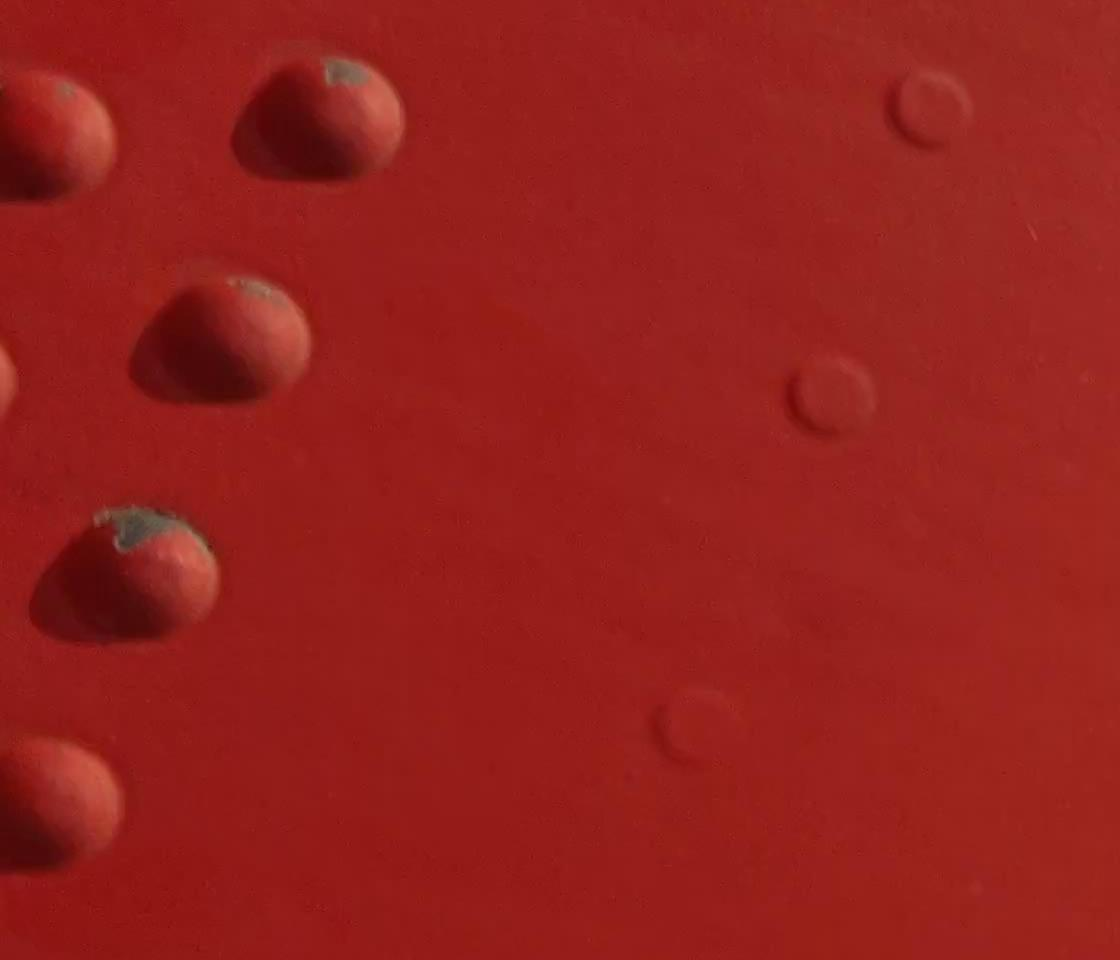paint_peel: (85, 485, 221, 573), (318, 47, 380, 97)
